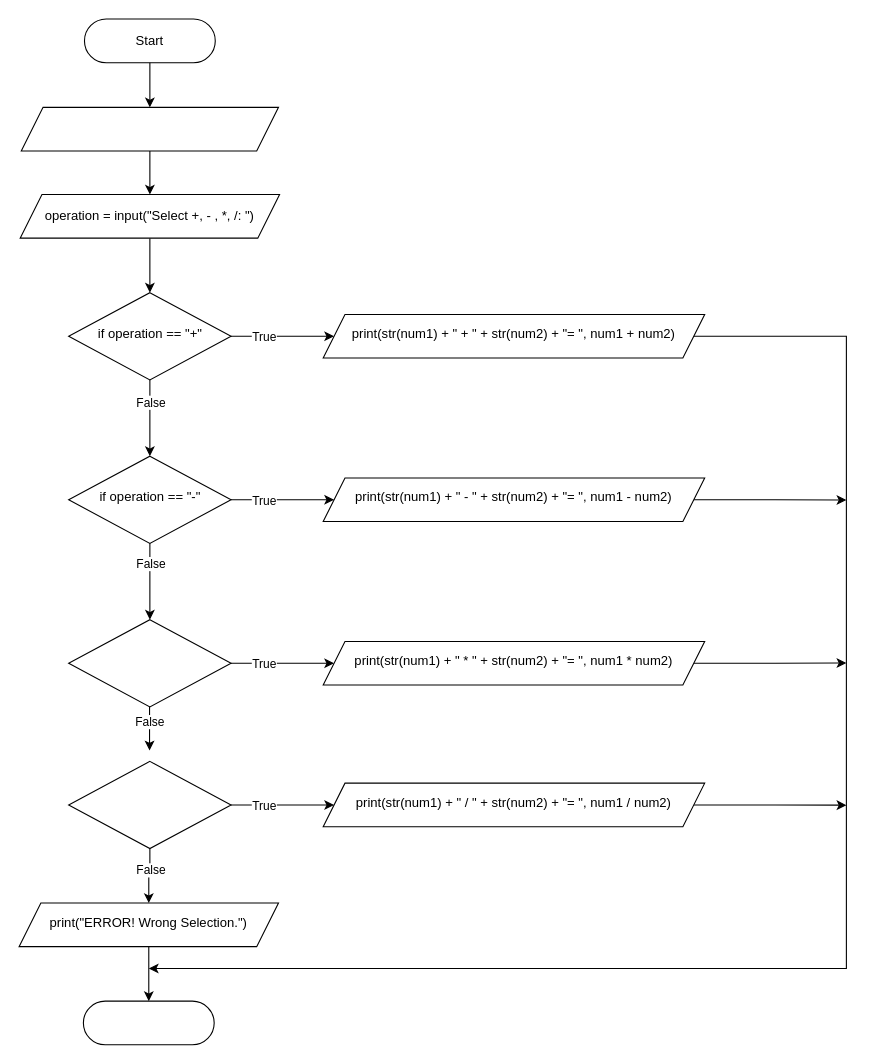
Some shapes in this 874 by 1064 pixel diagram are drawn without their labels. Each missing label, with the centre of its shape:
if operation == "*": point (149, 663)
if operation == "/": point (149, 804)
num1 = int(input("Enter Num1: ")) num2 = int(input("Enter Num2 ")): point (149, 128)
Stop: point (148, 1022)
